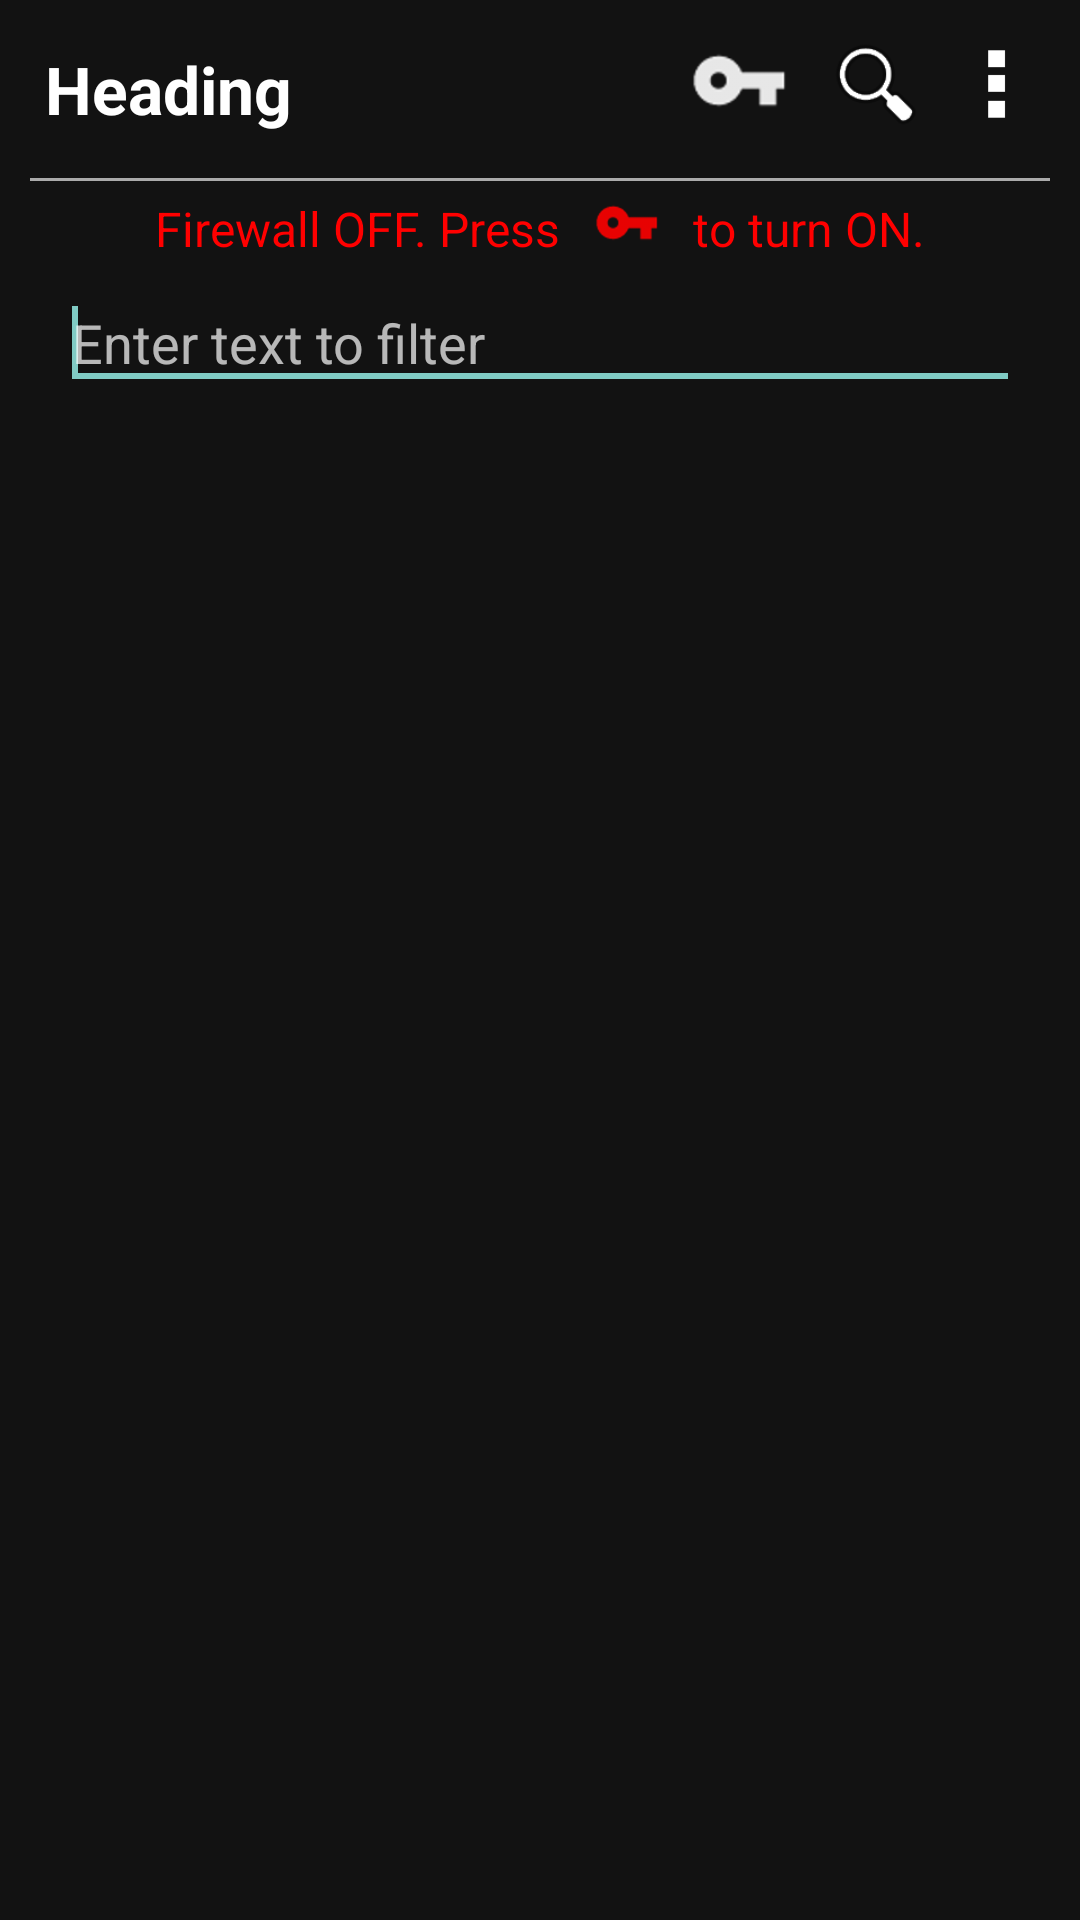

Point at icon controls on the screen. Image size 1080x1920, points as (x,y).
search: (876,84)
vpn connected: (739,80), (627,222)
